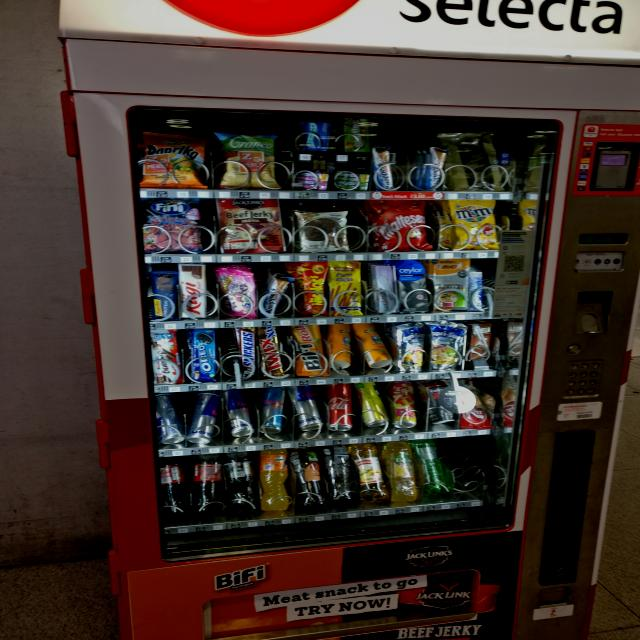7days_croissantschoko_packung_80_1_0000000000003: (456, 381, 488, 428)
airwaves_menthoneucalyptus_riegel_14_1_50173167: (305, 121, 333, 152)
berger_schoggitoertli____: (296, 210, 352, 256)
bifi_roll__50__4251097402635: (288, 322, 328, 377)
bueno___43__4008400320328: (144, 331, 184, 386)
c-swiss_dosenabisicetea__33__9120025930135: (355, 323, 394, 368), (327, 324, 353, 371)
caferoyal_classicmacchiato__33__7617014164487: (425, 381, 455, 423)
caprisun_multivitamin__20__4000177605004: (429, 321, 468, 370), (394, 322, 430, 370)
coke__dose_33__54491472: (324, 382, 357, 432)
coke__flasche_50__54491472: (156, 458, 193, 518), (194, 455, 226, 516)
coke_zero_flasche_50__5449000131836: (225, 453, 262, 515)
comella_schokodrink__33__7613100037253: (468, 319, 494, 363)
fanta___50__40822938: (260, 452, 292, 511)
fini_galaxymix_packung_100_1_8410525150364: (141, 198, 204, 255)
fini_jellykisses_packung_80_1_8410525116704: (219, 269, 256, 315)
fuse_lemon__50__5449000235947: (323, 445, 359, 506)
fuse_lemon_dose_33__5449000235947: (357, 383, 389, 431)
fuse_peach__50__5449000236623: (290, 448, 330, 510)
jacklinks_beefjerkyorginal__25__4047751730219: (215, 198, 288, 254)
jlbrichard_gauffrechoko__90__5410495002079: (446, 133, 505, 194)
kagi___50__7610046000259: (176, 261, 207, 315)
knoppers_riegel____4035800488808: (262, 275, 288, 316), (424, 146, 447, 192), (373, 147, 394, 190)
lorenz_nicnacs__40__4018077798818: (297, 260, 330, 316)
malburner_partysticks__40__7610200279682: (327, 260, 364, 316)
maltesers___100__5000159023061: (372, 199, 434, 249)
mnms_gelb__45__40111445: (447, 198, 499, 248)
oreo___66__84100733: (188, 326, 220, 382)
powerbar_proteinplusschoko__55__4029679520028: (148, 270, 178, 318)
ramseier_schorle__50__7610057012456: (354, 444, 392, 502)
redbull___33__90162909: (150, 392, 188, 447), (186, 392, 222, 444), (222, 389, 256, 436), (290, 386, 324, 430)
redbull_light__33__90162800: (256, 386, 292, 434)
skittles_sour_riegel_51_1_: (344, 115, 370, 151)
snickers___50__5000159461122: (234, 326, 261, 379)
stimorol_spearmint_riegel_14_1_: (332, 170, 371, 192)
stimorol_wildcherry_riegel_14_1_57060330: (294, 170, 331, 193)
tiki_himbeerbrause_dose_33_1_: (389, 381, 418, 425)
twix___50__5000159459228: (256, 325, 286, 377)
valser_classic__50__76404160: (417, 437, 451, 495)
volvic_pinapple__50__305764335648: (383, 442, 421, 502)
zweifel_graneochilli__100__7610095184009: (218, 131, 280, 188)
zweifel_paprika__90__7610095013002: (139, 131, 215, 191)
